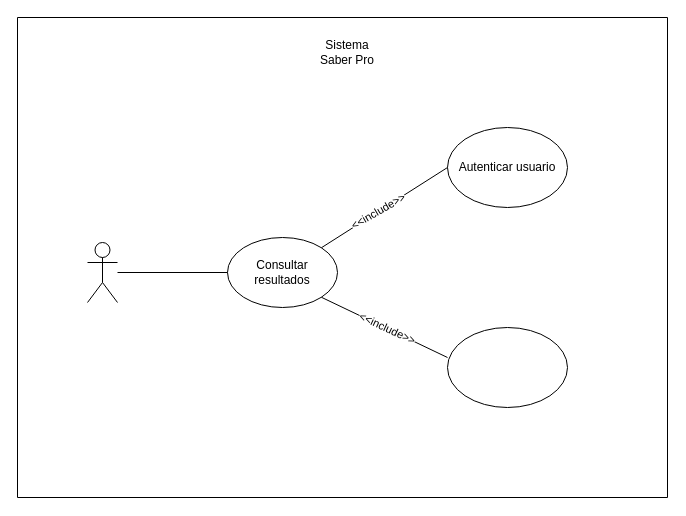
Some shapes in this 686 by 516 pixel diagram are drawn without their labels. The shapes that lost their labels are listed below. From the top down, each one's centre as x and y in pixels, then its label:
[102,272]: Estudiante
[507,367]: Visualizar puntajes
